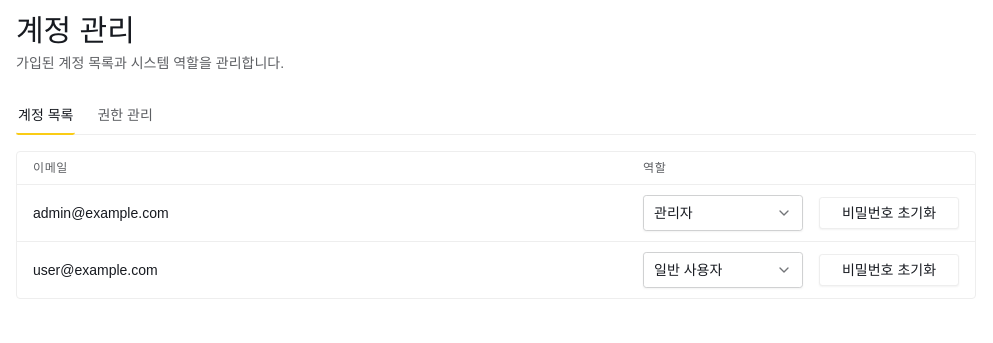
Test: AccountsPage permission matrix tab › surfaces an inline error on a 409 admin_manage_required rejection without crashing
Step 1. Click the tab with test id "accounts-tab-permissions" → click(125, 120), box [95,105,155,135]
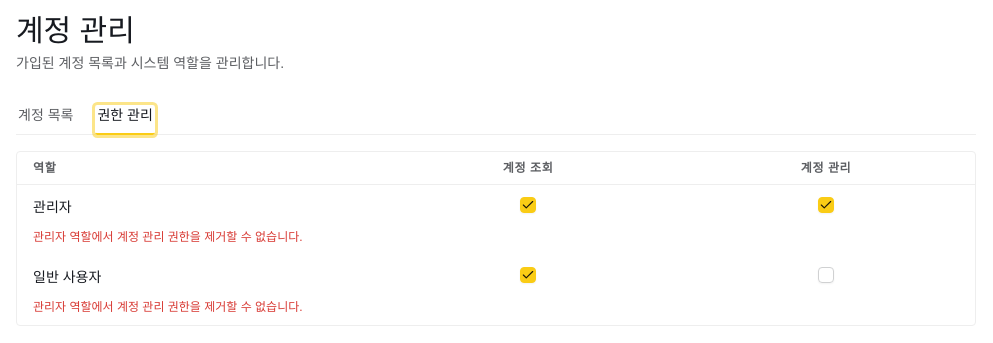
Check: the cell with test id "role-permission-error-admin" is shown, box [17,229,975,255]
